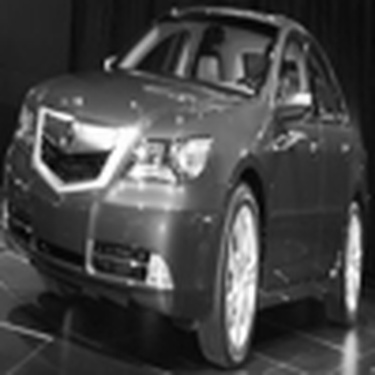car: (2, 6, 367, 368)
